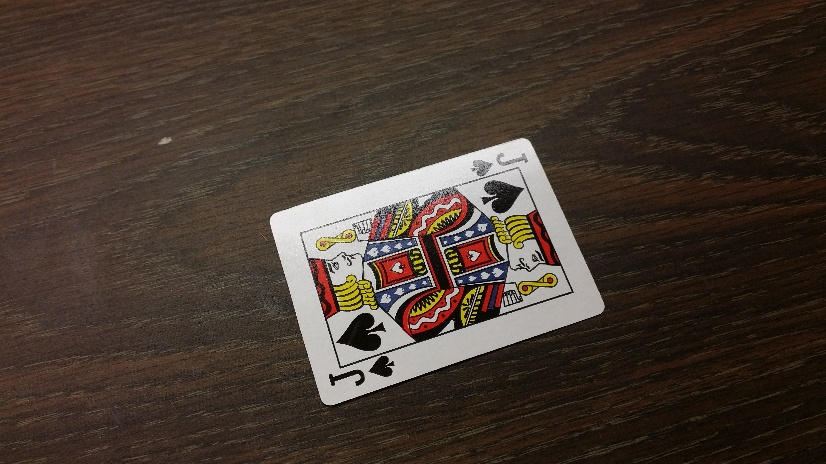Sj: (322, 357, 396, 392), (470, 151, 531, 177)
